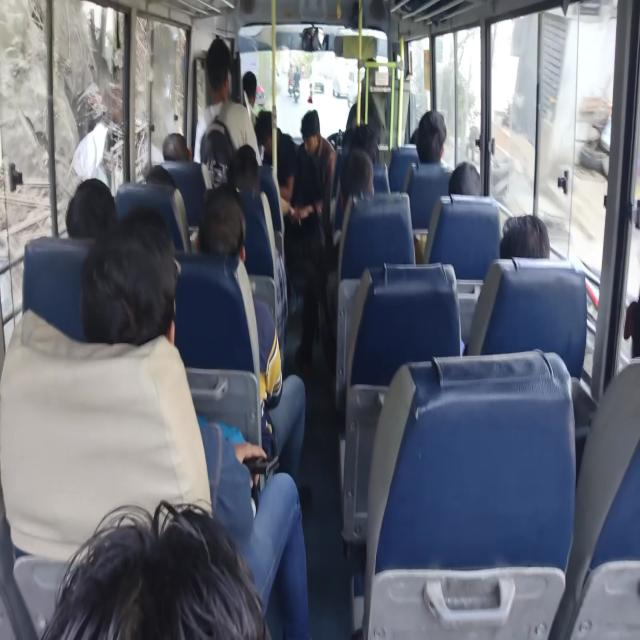person: (80, 206, 310, 638), (195, 184, 306, 485), (40, 498, 272, 639), (462, 213, 550, 353), (292, 109, 337, 370), (193, 37, 262, 185), (294, 109, 336, 229), (332, 148, 374, 240), (65, 177, 117, 239), (499, 213, 550, 259), (415, 109, 448, 168), (448, 160, 481, 196), (241, 70, 258, 127), (162, 132, 191, 162)
